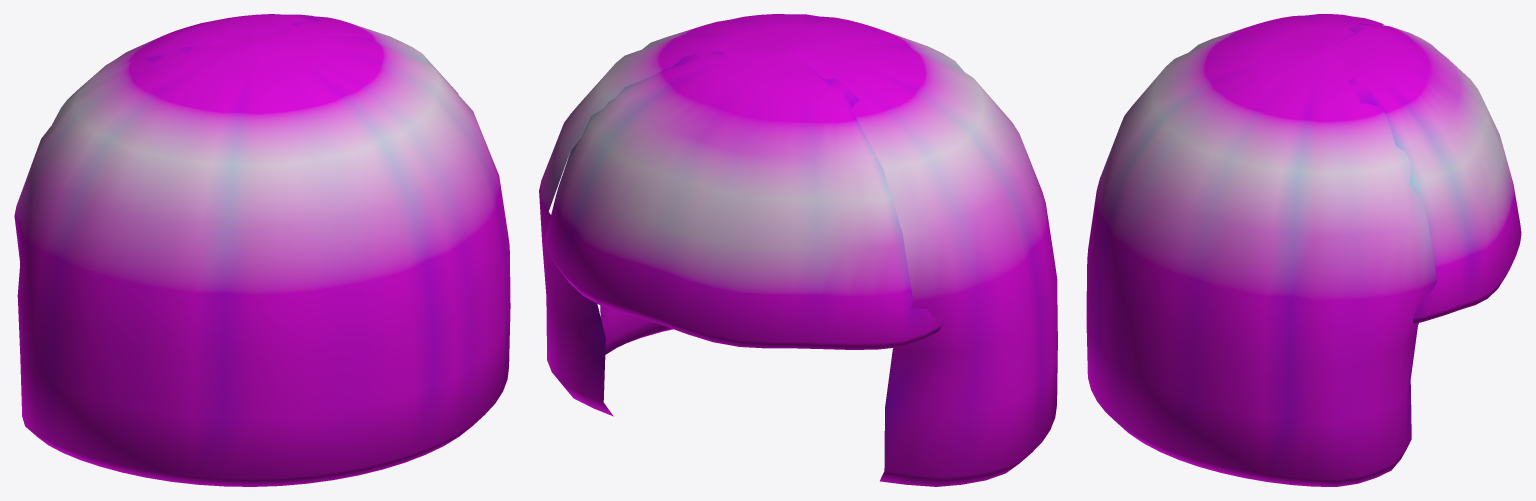
The model's file is bob_low.glb.
3 renders of one model, left to right at view 1: azimuth 30°, elevation 25°; view 2: azimuth 150°, elevation 25°; view 3: azimuth 270°, elevation 25°, orthographic. The views are drawn at different scales.
Parts seen in each view (by area): view 1: bob; view 2: bob; view 3: bob.
Part boxes in pixels (box(x1,y1,x2,y2)): bob: box(14, 14, 510, 486); bob: box(539, 14, 1057, 486); bob: box(1086, 14, 1521, 486).
Bounding box in the file's own units: 1.12 × 0.826 × 0.9606.
